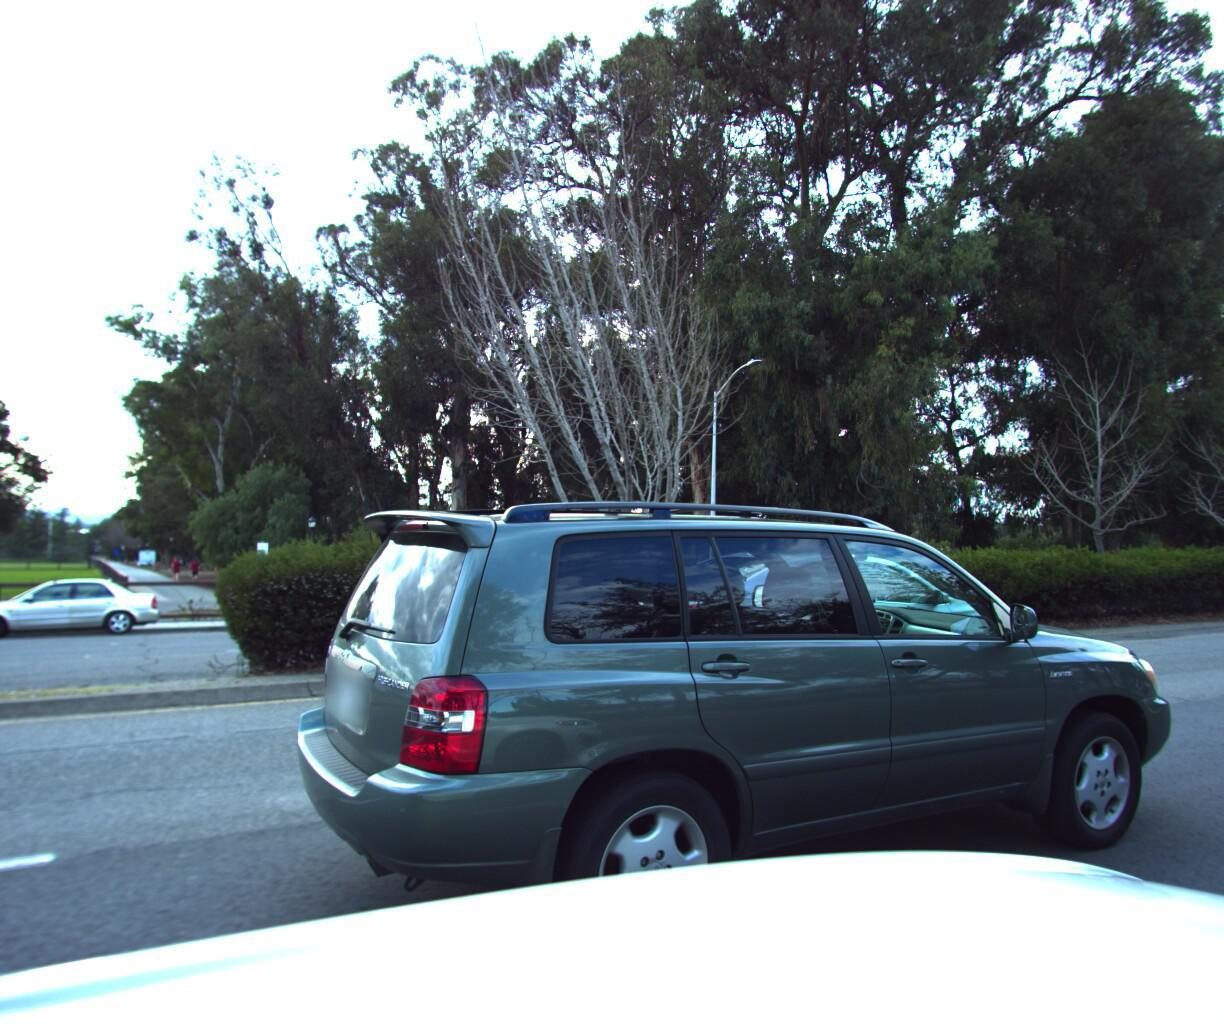car: (281, 471, 1179, 1024), (635, 534, 1048, 711), (0, 576, 163, 642)
